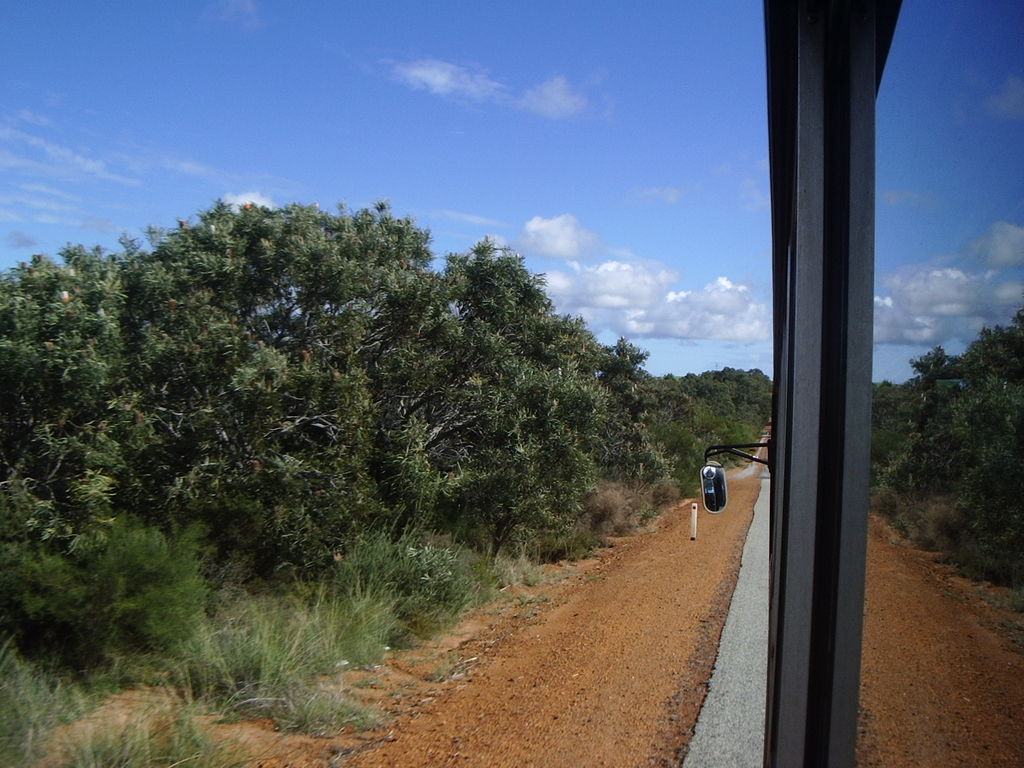Tree: (0, 199, 771, 614), (881, 310, 1019, 551)
